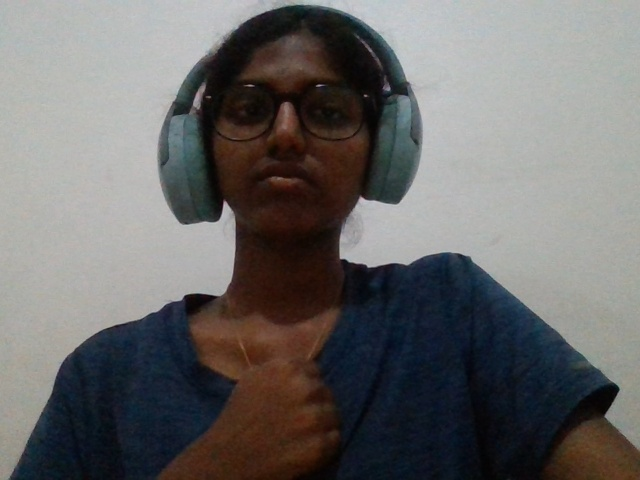Sorry: (184, 334, 358, 478)
